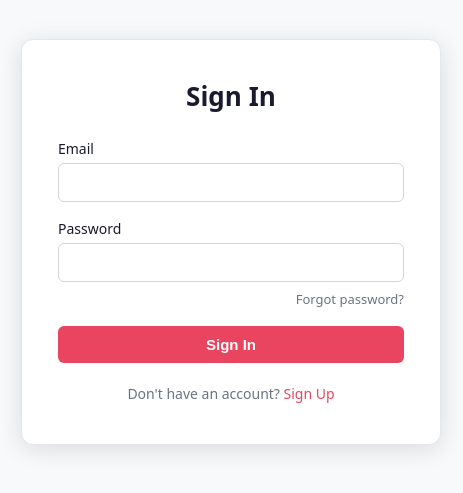
LoginPage › shows a validation error when email is invalid
Type "not-an-email" into the field labelled "Email".
click(231, 183); type("not-an-email")  # box [58,163,404,202]
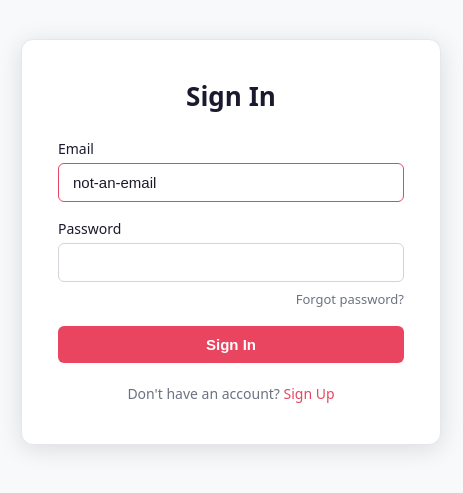
Submit the form "Email Password Forgot password? Sign In", box [58,138,404,363]
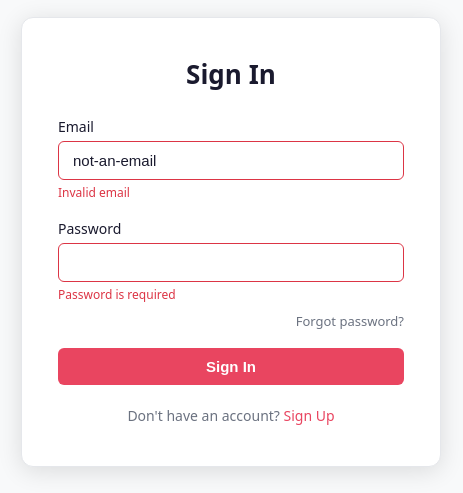
Result: the text "Invalid email" is shown at [58,184,130,201]
